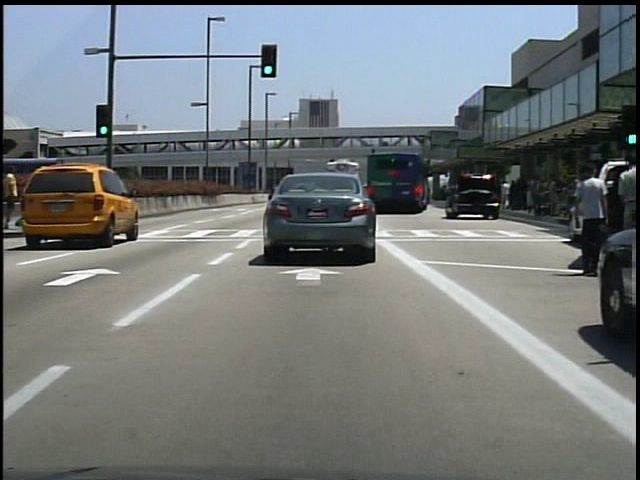person: (611, 149, 639, 281), (568, 157, 611, 242), (25, 166, 47, 226), (5, 165, 23, 232)
